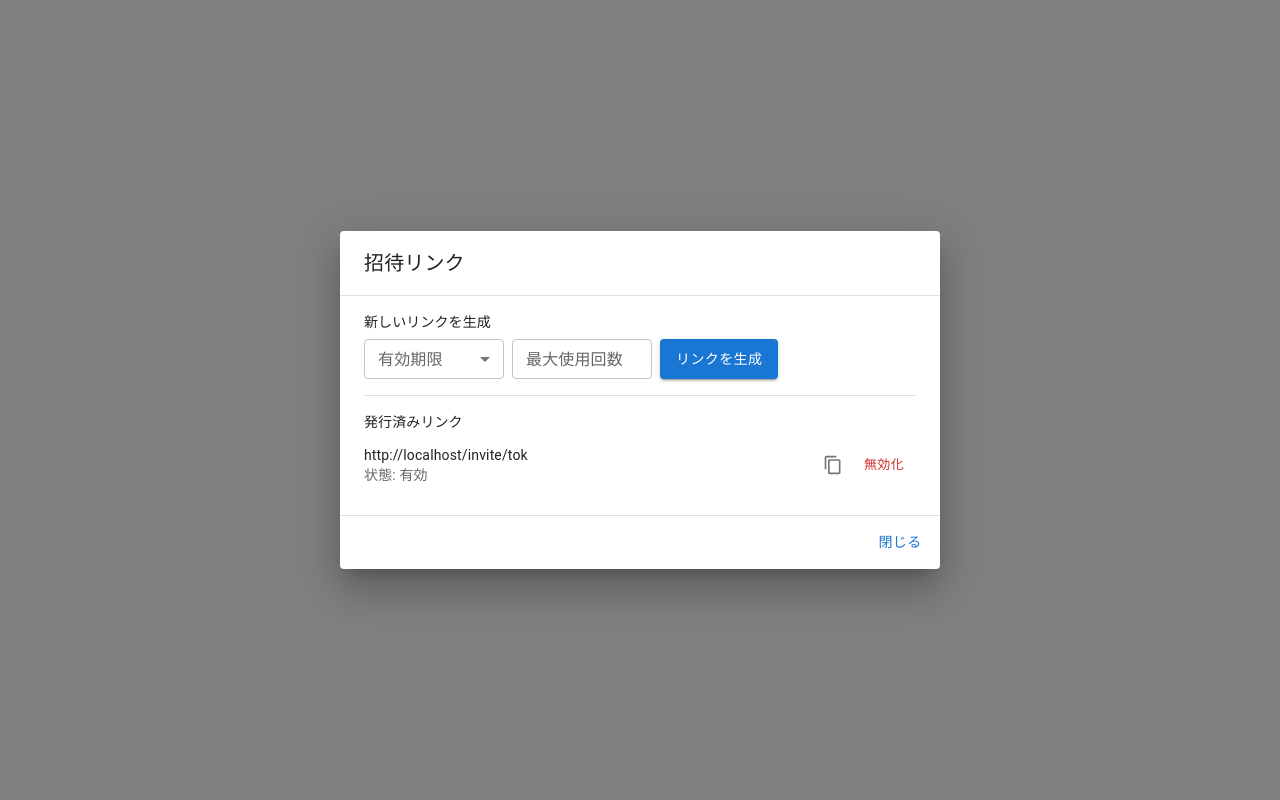
Test: InviteLinkDialog › 無効化操作 › revoke 後にリンクの状態が「無効」に更新される
Click the button labelled "無効化": point(884, 465) 852,450 -> 916,480
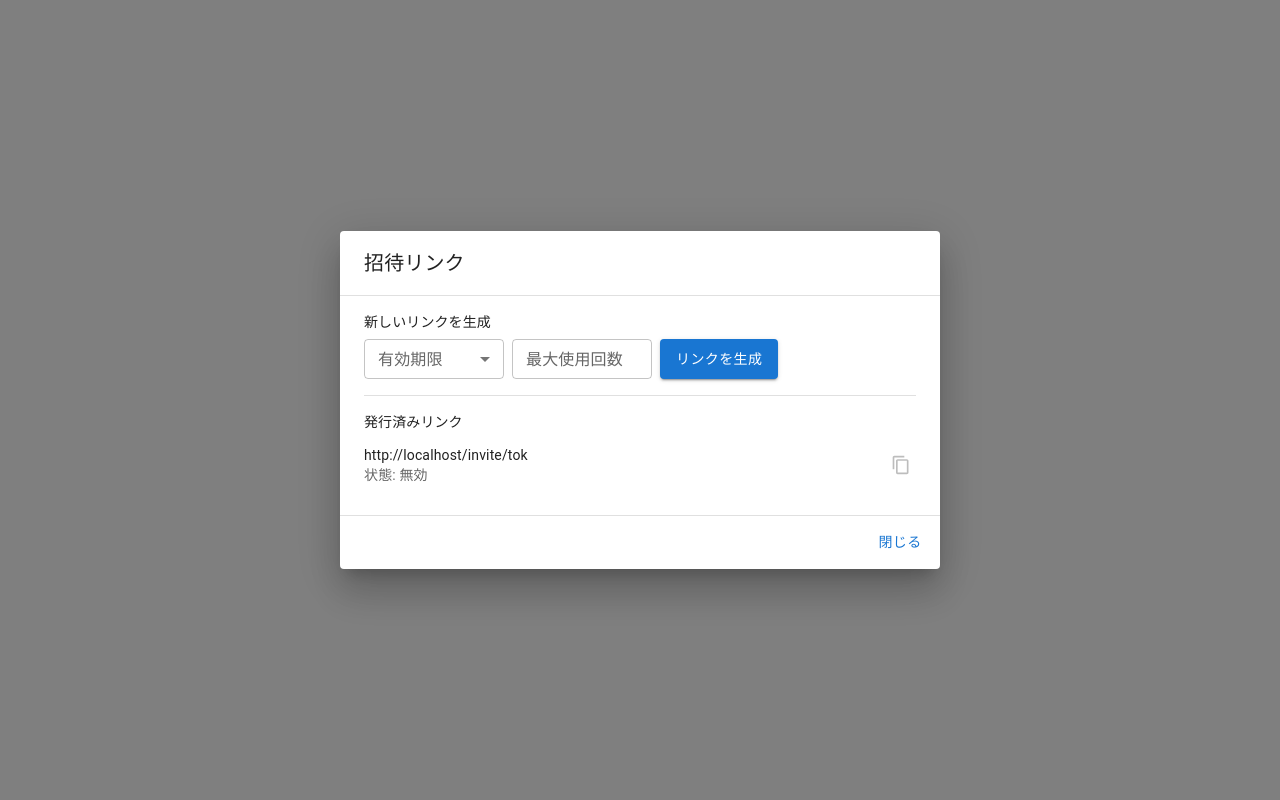
Expected: the text "状態: 無効" is shown, 364,467 -> 428,483
